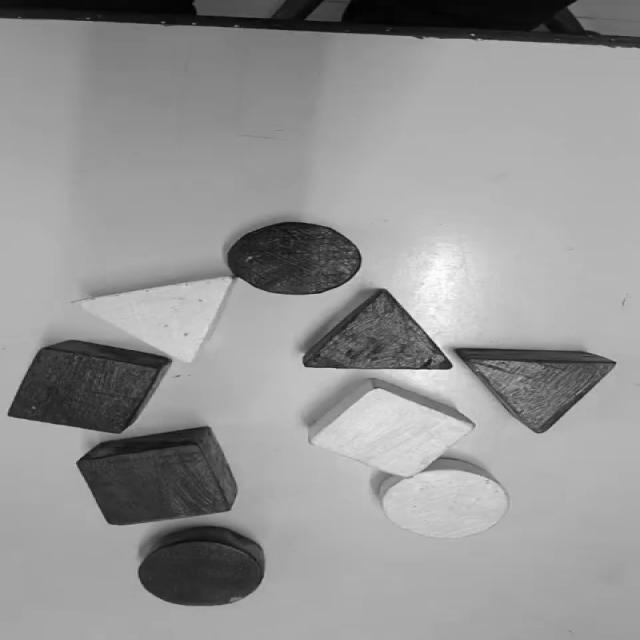bcircle: (227, 222, 361, 295)
bcube: (8, 341, 171, 434)
btriangle: (303, 290, 451, 370)
rcircle: (76, 427, 237, 525), (139, 528, 263, 605)
rtriangle: (456, 349, 615, 433)
ycircle: (379, 459, 509, 538)
ycube: (308, 380, 474, 477)
ytriangle: (74, 276, 235, 361)
